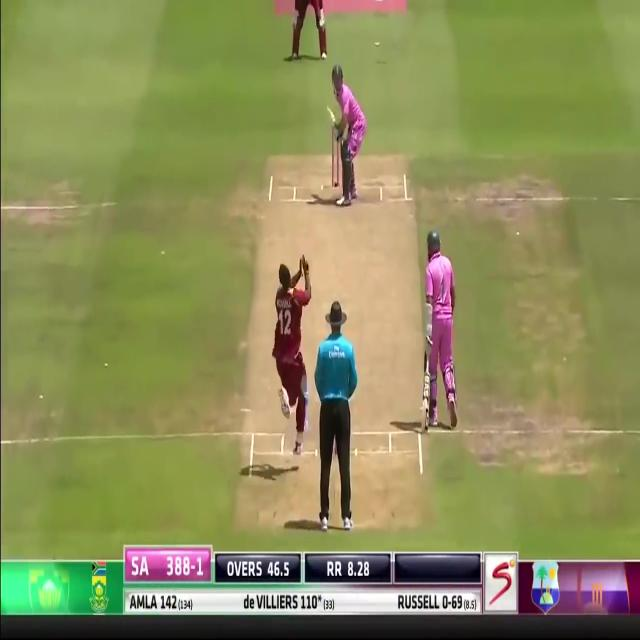Ball: (422, 230, 457, 430), (330, 65, 367, 205)
Fielder: (271, 256, 312, 459), (288, 0, 328, 61)
Umpire: (314, 300, 357, 534)
